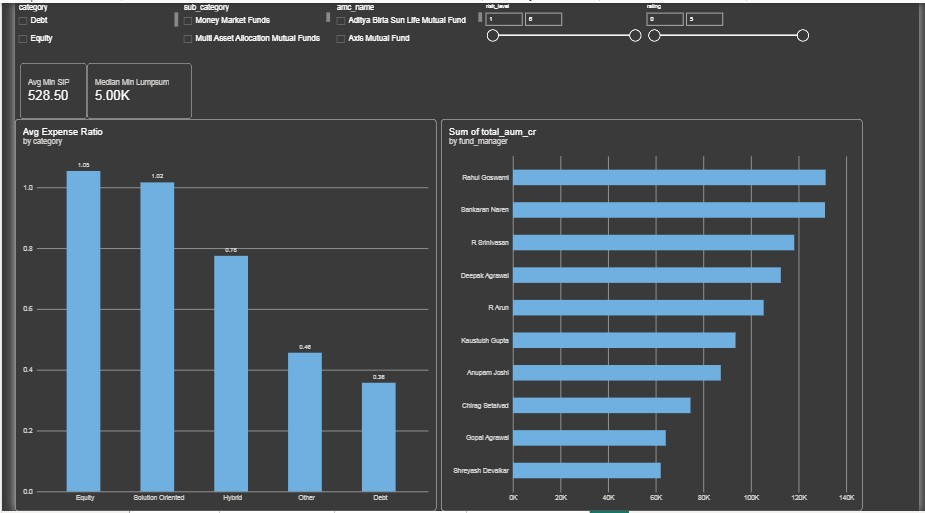

Layout of this report page (visuals, bound fields, positions):
{"tool":"powerbi","page":{"name":"Cost & Efficiency","canvas":[1920,1080],"ordinal":2},"visuals":[{"type":"cardVisual","fields":{"Data":["Cleaned_Data.Avg Min SIP"]},"box":[10.6,128.2,142.6,119.1],"z":0},{"type":"cardVisual","fields":{"Data":["Cleaned_Data.Median Min Lumpsum"]},"box":[153.2,128.2,223.4,119.1],"z":1000},{"type":"clusteredColumnChart","fields":{"Category":["Cleaned_Data.category"],"Y":["Cleaned_Data.Avg Expense Ratio"]},"box":[0,246.8,895.7,834],"z":2000},{"type":"clusteredBarChart","fields":{"Y":["Sum(Manager_Summary.total_aum_cr)"],"Category":["Manager_Summary.fund_manager"]},"box":[906.4,246.8,895.7,834],"z":3000},{"type":"slicer","fields":{"Values":["Cleaned_Data.sub_category"]},"box":[351.1,0,319.1,95.7],"z":4000},{"type":"slicer","fields":{"Values":["Cleaned_Data.category"]},"box":[0,0,346.8,95.7],"z":5000},{"type":"slicer","fields":{"Values":["Cleaned_Data.amc_name"]},"box":[676.6,0,317,95.7],"z":6000},{"type":"slicer","fields":{"Values":["Cleaned_Data.risk_level"]},"box":[993.6,0,342.6,100],"z":7000},{"type":"slicer","fields":{"Values":["Cleaned_Data.rating"]},"box":[1336.2,0,355.3,100],"z":8000}]}

Visuals, with their boxes in screenshot pixels (x1, y1, x2, y2), scaled from the page's 1920x1080 canvas onto the 925x513 screenshot:
cardVisual - Cleaned_Data.Avg Min SIP: region(5, 61, 74, 117)
cardVisual - Cleaned_Data.Median Min Lumpsum: region(74, 61, 181, 117)
clusteredColumnChart - Cleaned_Data.category x Cleaned_Data.Avg Expense Ratio: region(0, 117, 432, 512)
clusteredBarChart - Sum(Manager_Summary.total_aum_cr) x Manager_Summary.fund_manager: region(437, 117, 868, 512)
slicer - Cleaned_Data.sub_category: region(169, 0, 323, 45)
slicer - Cleaned_Data.category: region(0, 0, 167, 45)
slicer - Cleaned_Data.amc_name: region(326, 0, 479, 45)
slicer - Cleaned_Data.risk_level: region(479, 0, 644, 48)
slicer - Cleaned_Data.rating: region(644, 0, 815, 48)
